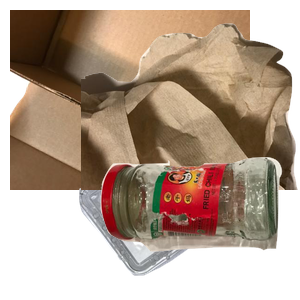cardboard: (10, 10, 250, 190)
glass: (98, 155, 300, 300)
plastic: (77, 133, 289, 300)
trash: (81, 21, 300, 201)
